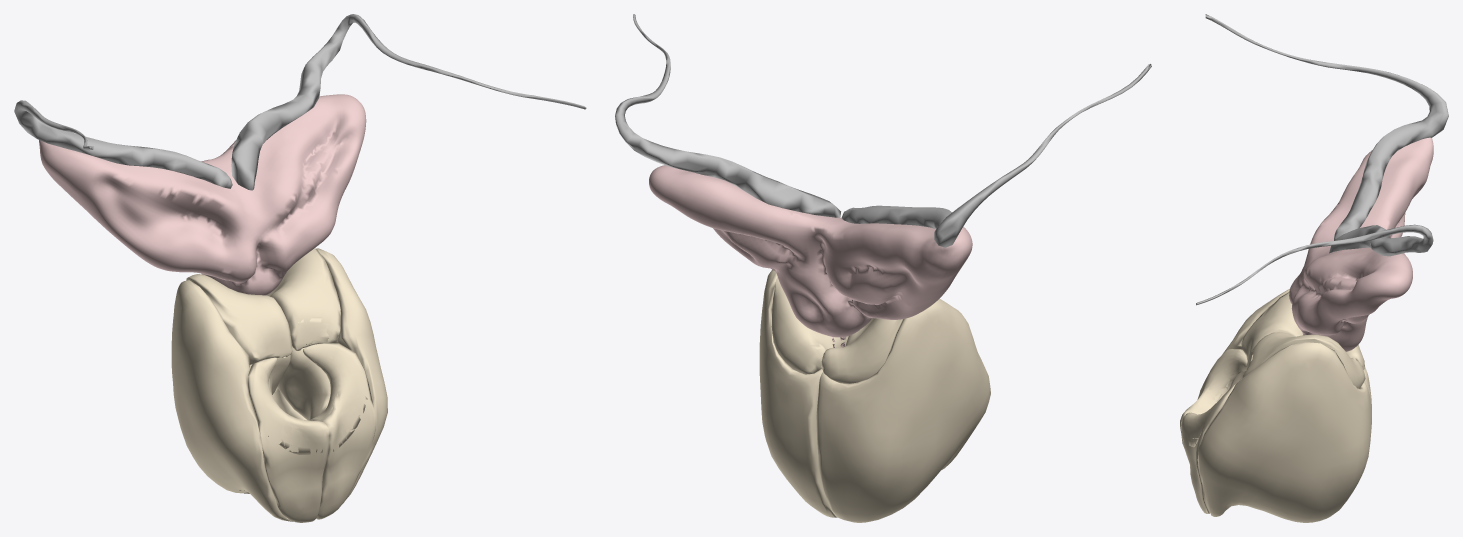
Rendered from vh_m_prostate-100.glb.
3 views of the same model, side by side, from view 1: azimuth 30°, elevation 25°; view 2: azimuth 150°, elevation 25°; view 3: azimuth 270°, elevation 25° (orthographic). The views are drawn at different scales.
Visible parts, largest first — view 1: VH_M_seminal_vesicle, VH_M_peripheral_zone_of_prostate_R, VH_M_anterior_fibromuscular_stroma_R, VH_M_anterior_fibromuscular_stroma_L, VH_M_vas_deferens_R, VH_M_vas_deferens_L, VH_M_central_zone_of_prostate_R, VH_M_central_zone_of_prostate_L, VH_M_peripheral_zone_of_prostate_L, VH_M_base_of_prostate, VH_M_transition_zone__of_prostate_L; view 2: VH_M_peripheral_zone_of_prostate_R, VH_M_seminal_vesicle, VH_M_peripheral_zone_of_prostate_L, VH_M_vas_deferens_R, VH_M_vas_deferens_L, VH_M_central_zone_of_prostate_R, VH_M_central_zone_of_prostate_L; view 3: VH_M_peripheral_zone_of_prostate_L, VH_M_seminal_vesicle, VH_M_vas_deferens_L, VH_M_vas_deferens_R, VH_M_central_zone_of_prostate_L, VH_M_central_zone_of_prostate_R, VH_M_anterior_fibromuscular_stroma_L, VH_M_anterior_fibromuscular_stroma_R, VH_M_base_of_prostate, VH_M_peripheral_zone_of_prostate_R.
Boxes of the visible parts, x1=… form: VH_M_seminal_vesicle: x1=39, y1=94, x2=366, y2=295; VH_M_peripheral_zone_of_prostate_R: x1=171, y1=280, x2=293, y2=521; VH_M_anterior_fibromuscular_stroma_R: x1=248, y1=357, x2=329, y2=522; VH_M_anterior_fibromuscular_stroma_L: x1=303, y1=343, x2=375, y2=519; VH_M_vas_deferens_R: x1=231, y1=14, x2=586, y2=190; VH_M_vas_deferens_L: x1=14, y1=100, x2=232, y2=188; VH_M_central_zone_of_prostate_R: x1=186, y1=274, x2=292, y2=364; VH_M_central_zone_of_prostate_L: x1=267, y1=248, x2=340, y2=387; VH_M_peripheral_zone_of_prostate_L: x1=272, y1=248, x2=387, y2=499; VH_M_base_of_prostate: x1=247, y1=317, x2=367, y2=454; VH_M_transition_zone__of_prostate_L: x1=277, y1=346, x2=330, y2=420; VH_M_peripheral_zone_of_prostate_R: x1=816, y1=298, x2=990, y2=522; VH_M_seminal_vesicle: x1=649, y1=165, x2=972, y2=337; VH_M_peripheral_zone_of_prostate_L: x1=759, y1=270, x2=837, y2=517; VH_M_vas_deferens_R: x1=615, y1=14, x2=840, y2=217; VH_M_vas_deferens_L: x1=841, y1=64, x2=1151, y2=247; VH_M_central_zone_of_prostate_R: x1=821, y1=318, x2=902, y2=383; VH_M_central_zone_of_prostate_L: x1=771, y1=277, x2=848, y2=374; VH_M_peripheral_zone_of_prostate_L: x1=1197, y1=342, x2=1371, y2=522; VH_M_seminal_vesicle: x1=1289, y1=137, x2=1433, y2=351; VH_M_vas_deferens_L: x1=1205, y1=14, x2=1448, y2=240; VH_M_vas_deferens_R: x1=1196, y1=224, x2=1433, y2=305; VH_M_central_zone_of_prostate_L: x1=1241, y1=332, x2=1365, y2=388; VH_M_central_zone_of_prostate_R: x1=1241, y1=292, x2=1364, y2=369; VH_M_anterior_fibromuscular_stroma_L: x1=1181, y1=378, x2=1241, y2=513; VH_M_anterior_fibromuscular_stroma_R: x1=1180, y1=349, x2=1247, y2=443; VH_M_base_of_prostate: x1=1182, y1=350, x2=1252, y2=447; VH_M_peripheral_zone_of_prostate_R: x1=1200, y1=289, x2=1371, y2=409.
Bounding box in the file's own units: 0.083 × 0.0705 × 0.0428.
